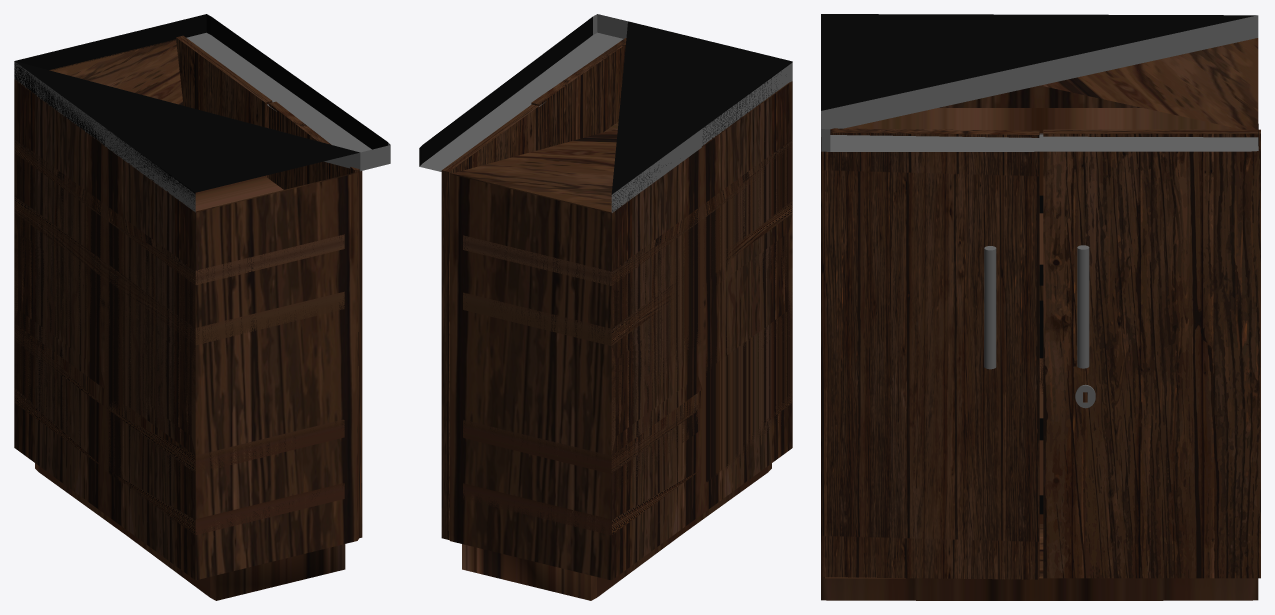
The picture shows the model from 3 angles, left to right: view 1: azimuth 30°, elevation 25°; view 2: azimuth 150°, elevation 25°; view 3: azimuth 270°, elevation 25°; orthographic projection. The views are drawn at different scales.
Parts seen in each view (by area): view 1: Cylinder.001_1, RightDoor, LeftDoor; view 2: Cylinder.001_1, RightDoor, LeftDoor; view 3: RightDoor, LeftDoor, Cylinder.001_1.
Boxes of the visible parts, <box> form: Cylinder.001_1: <box>14,14,390,600</box>; RightDoor: <box>176,35,272,178</box>; LeftDoor: <box>269,101,362,538</box>; Cylinder.001_1: <box>419,14,792,600</box>; RightDoor: <box>441,104,538,539</box>; LeftDoor: <box>531,38,626,149</box>; RightDoor: <box>1043,129,1260,578</box>; LeftDoor: <box>822,128,1039,579</box>; Cylinder.001_1: <box>821,14,1258,600</box>.
Size of the model in its own units: 5.32 by 10.69 by 8.56.
Materials: 3 (1 with a texture image).
